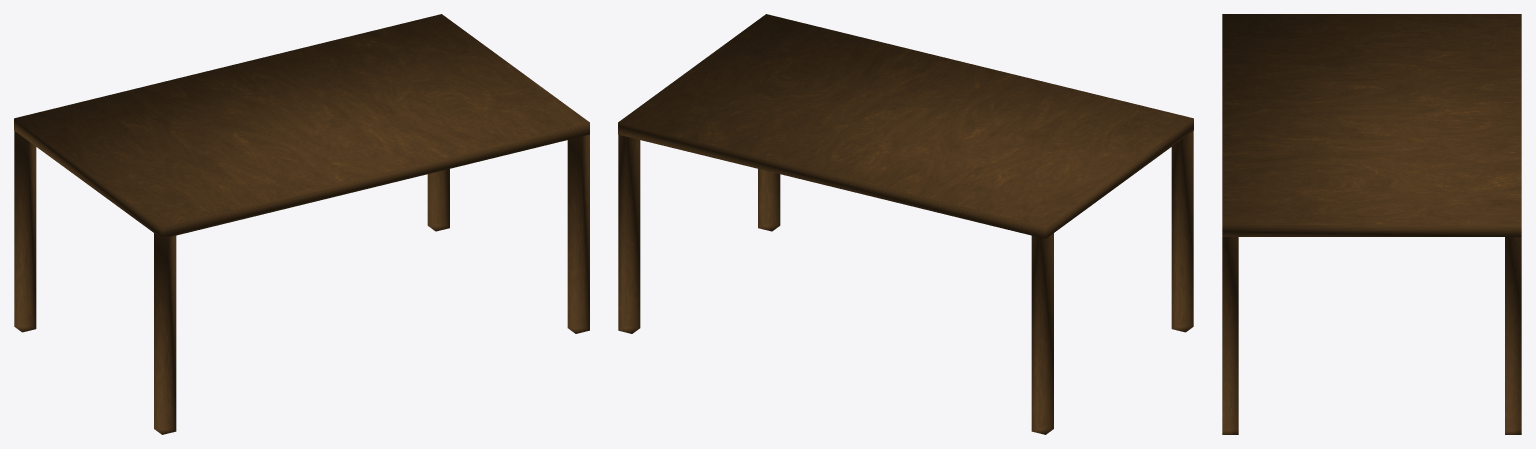
Rendered from finalMemorialTable.fbx.
The picture shows the model from 3 angles, left to right: view 1: azimuth 30°, elevation 25°; view 2: azimuth 150°, elevation 25°; view 3: azimuth 270°, elevation 25°; orthographic projection.
Parts seen in each view (by area): view 1: table; view 2: table; view 3: table.
Part boxes in pixels (bbox=[...]): table: bbox=[14, 14, 589, 434]; table: bbox=[618, 14, 1193, 434]; table: bbox=[1222, 14, 1521, 434].
Bounding box in the file's own units: 152 × 70.9 × 91.44.
